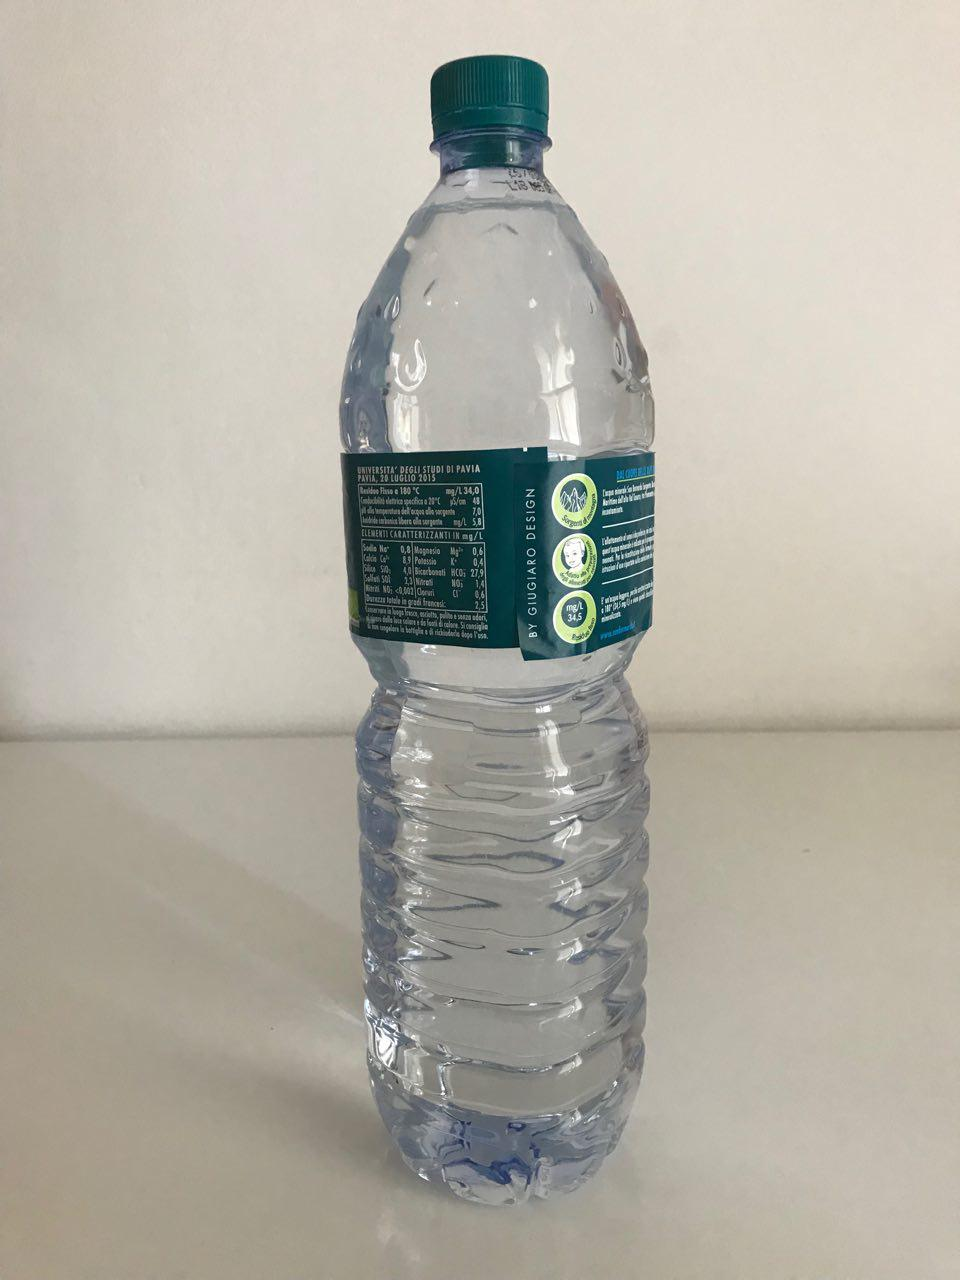san_bernardo: (336, 53, 658, 1211)
